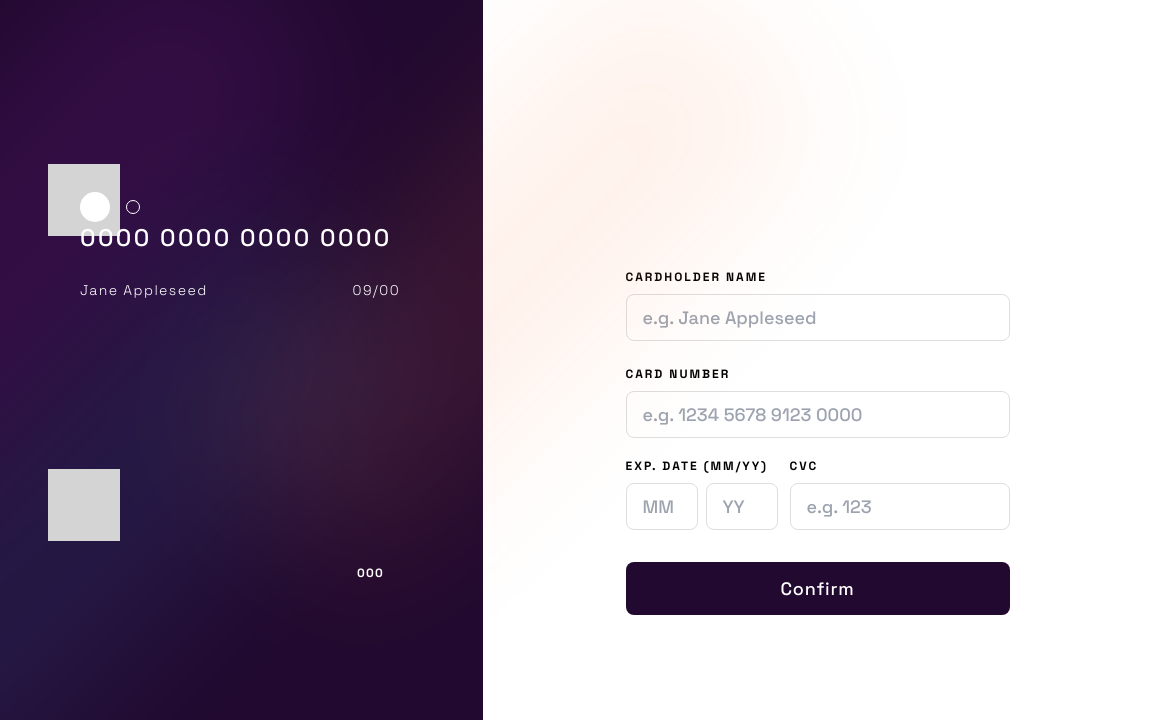
Scenario: Submit validation › Blank inputs validation › Should show a message if input card number is blank
This screenshot has width=1152, height=720.
Type "Andres Marquez" into the field labelled "CARDHOLDER NAME" at (818, 318), box [626,294,1010,341]
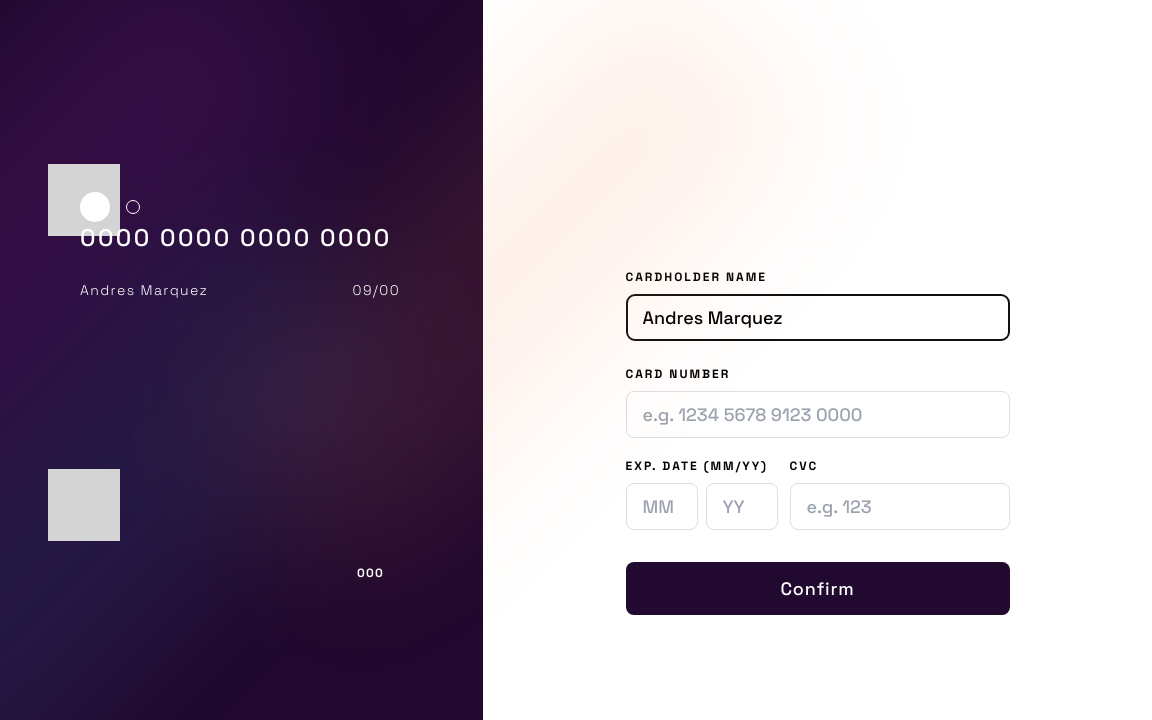
Type "200" into the field labelled "CVC" at (900, 506), box [790,483,1010,530]
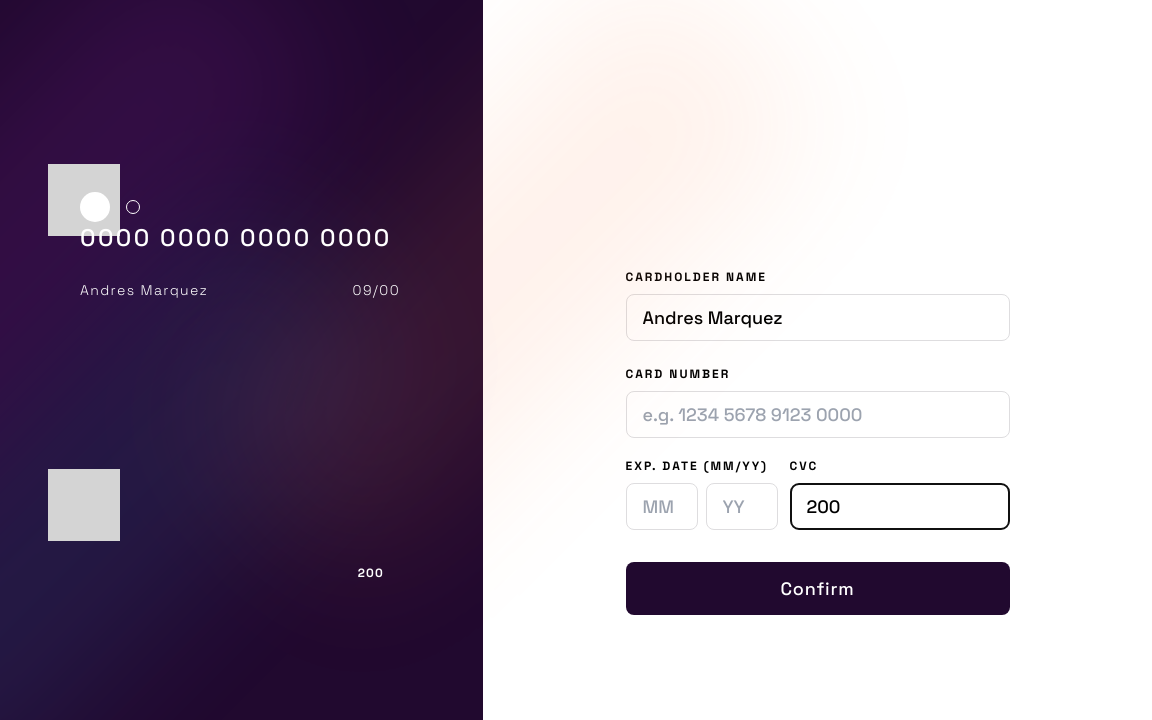
Type "30" into the field with test id "expiredDateYear" at (742, 506), box [706,483,778,530]
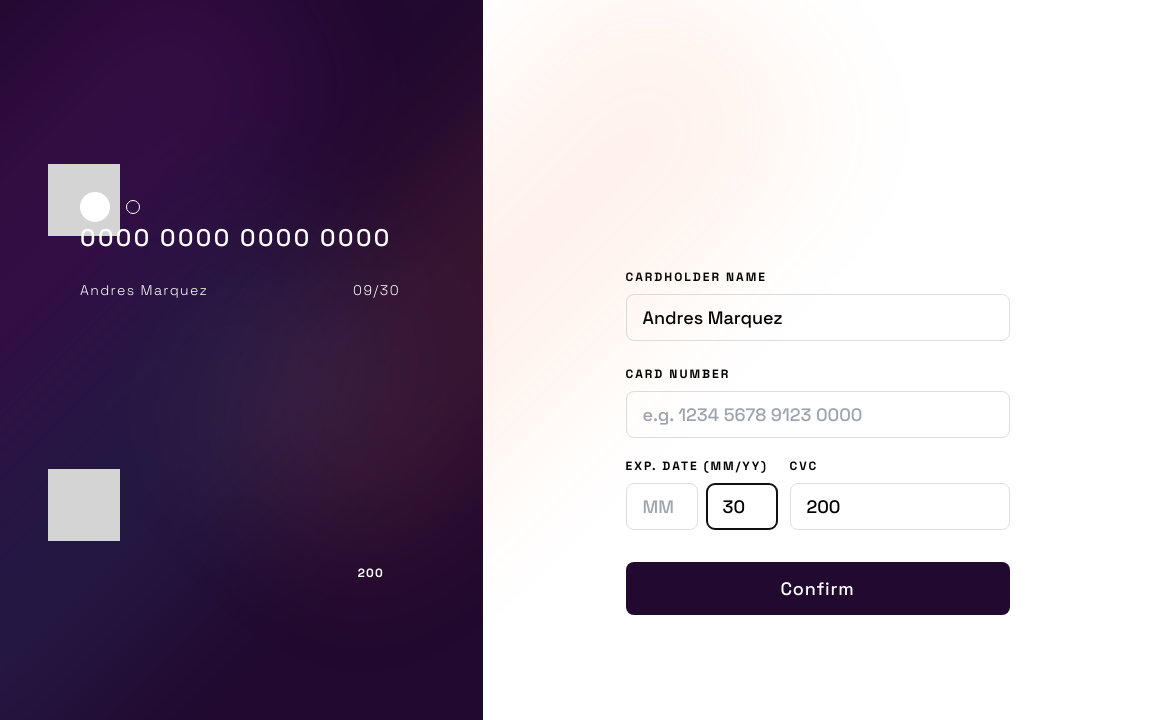
Type "20" into the field labelled "EXP. DATE (MM/YY)" at (662, 506), box [626,483,698,530]
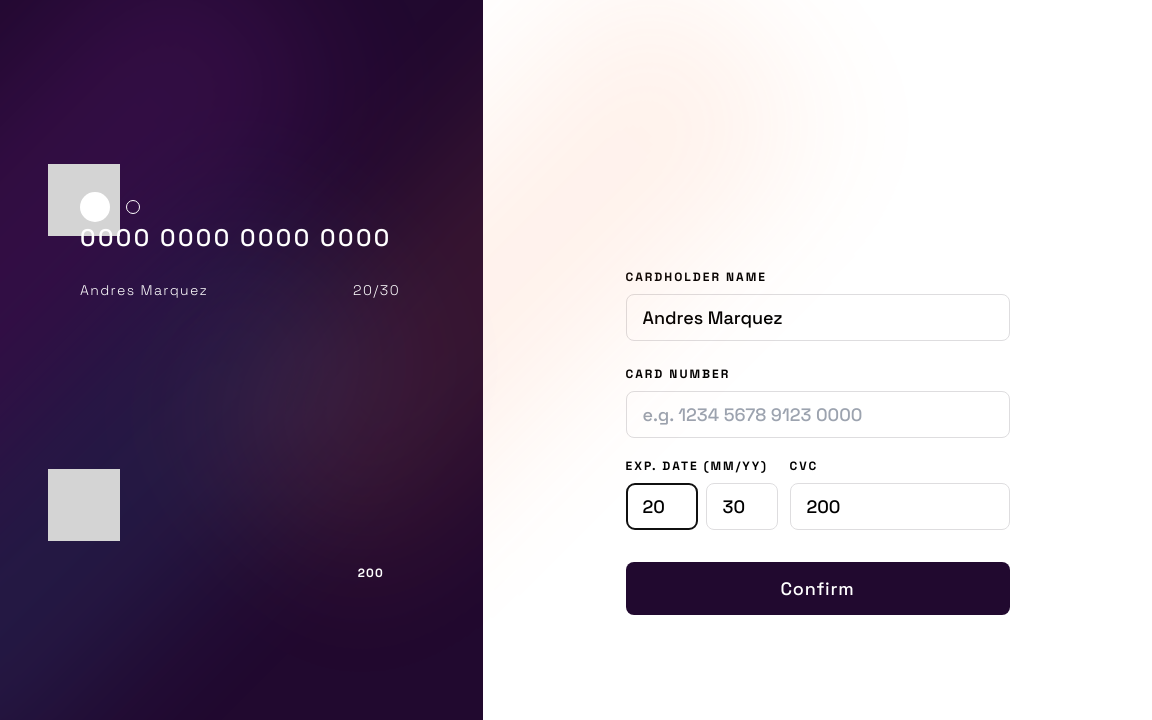
Click the button at (818, 588), box [626,562,1010,615]
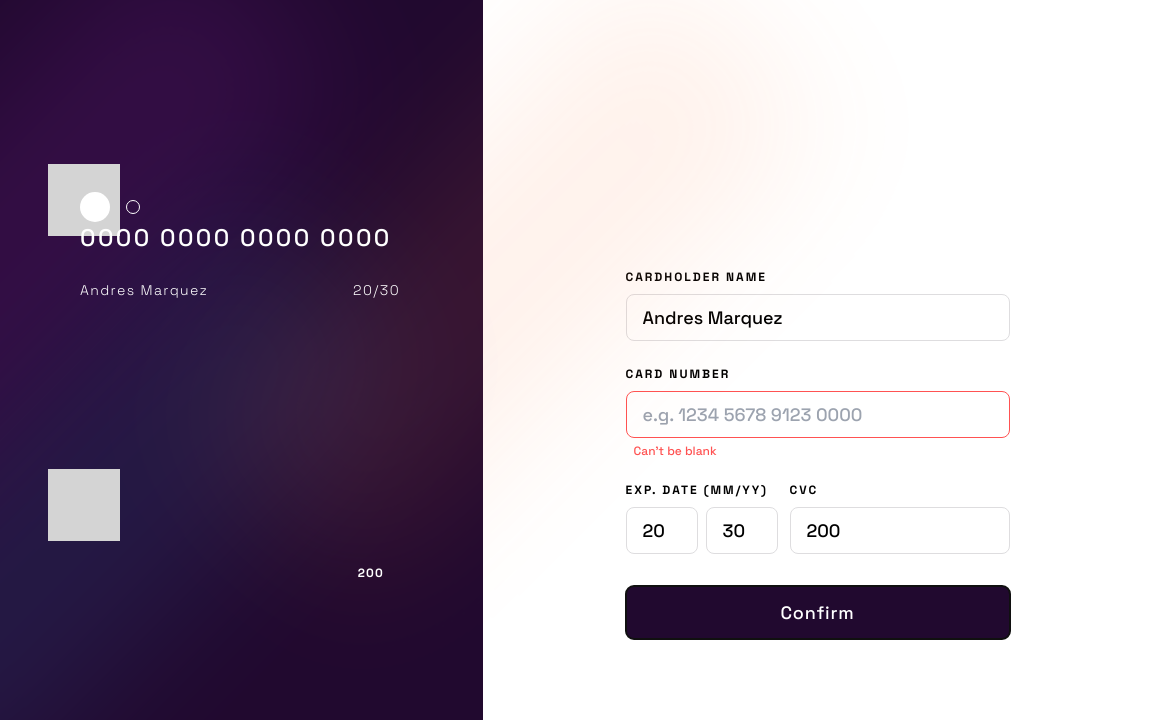
expect the text "Can't be blank" is shown: met, box [634,443,717,459]
